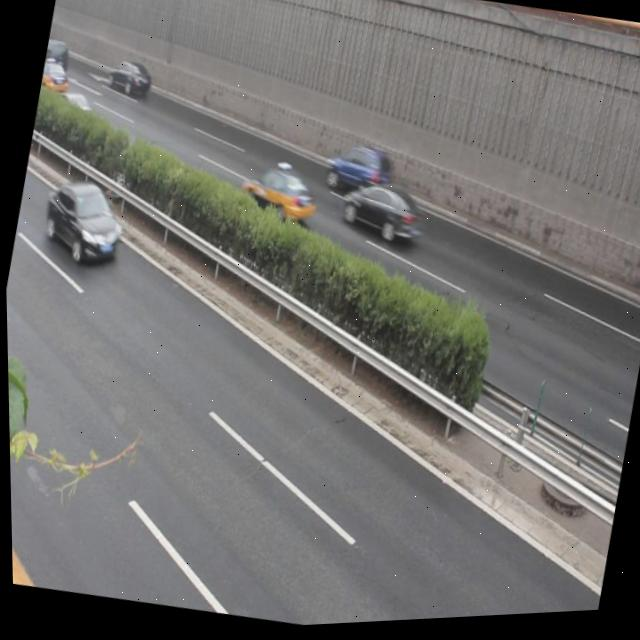car: (35, 175, 131, 272), (334, 180, 427, 256), (234, 162, 321, 232), (320, 142, 397, 208), (100, 59, 155, 108)
